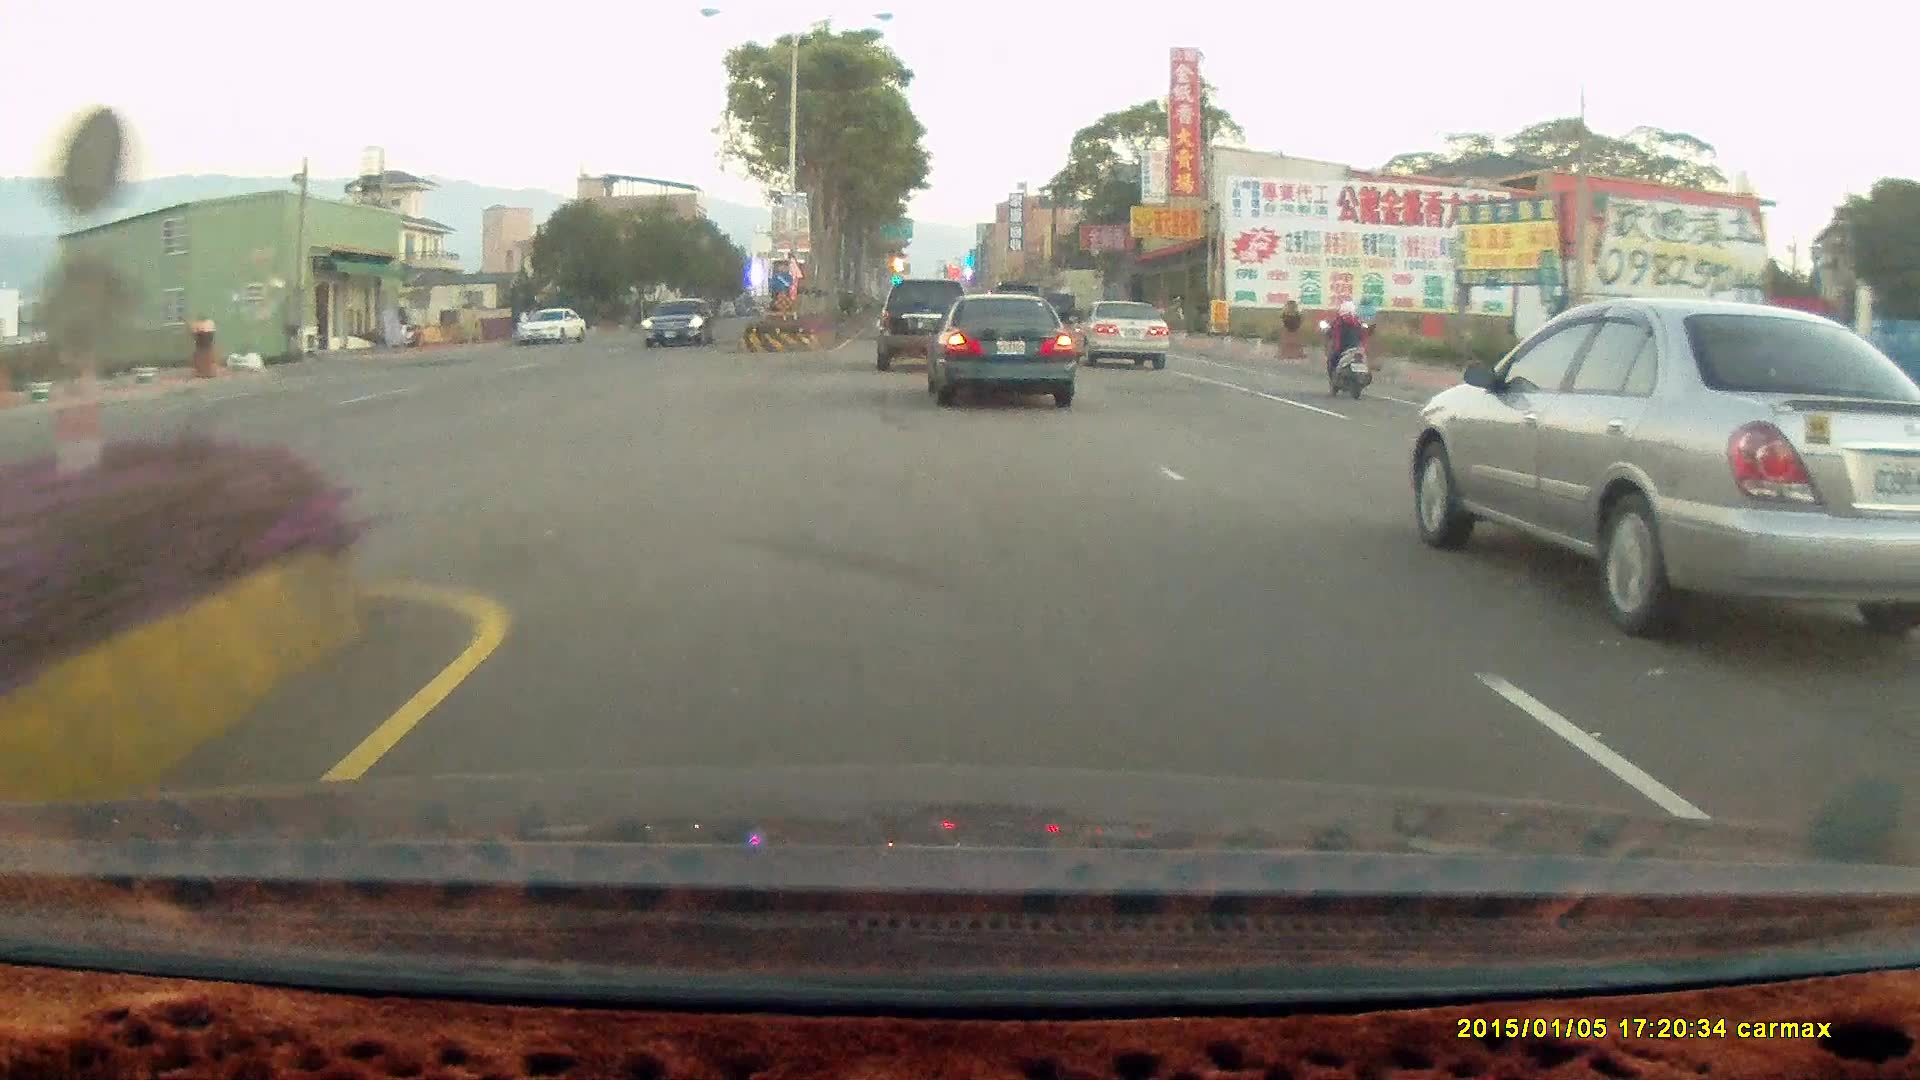rider: (1309, 292, 1386, 405), (1315, 295, 1371, 395)
vehicle: (1408, 295, 1920, 644), (920, 289, 1075, 404), (928, 298, 1077, 406), (880, 277, 976, 374), (876, 278, 970, 371), (1069, 297, 1170, 368), (1072, 301, 1172, 368), (642, 297, 716, 348), (643, 298, 718, 348), (515, 305, 586, 344), (518, 307, 587, 347)
